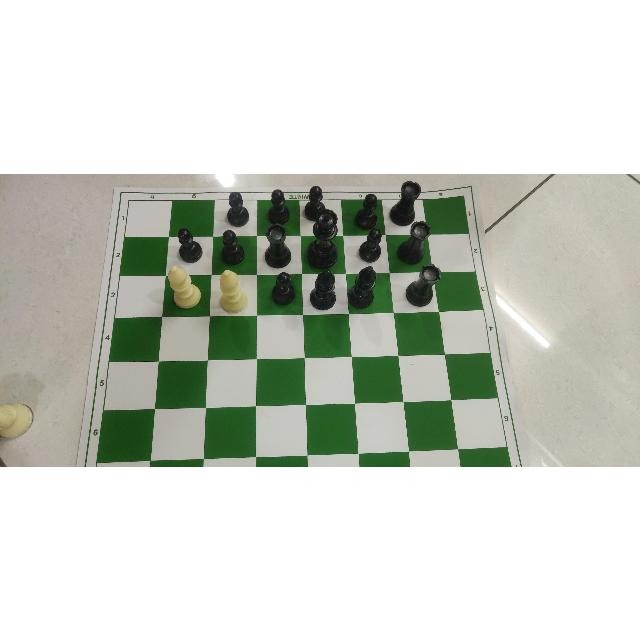black-bishop: (347, 260, 380, 309), (307, 264, 339, 314)
black-pawn: (169, 222, 211, 260), (220, 187, 257, 225), (219, 224, 255, 263), (263, 185, 297, 225), (354, 187, 386, 227), (269, 272, 301, 310), (358, 227, 388, 262), (303, 181, 340, 208)
black-queen: (306, 211, 342, 267)
black-rook: (406, 262, 442, 307), (392, 178, 429, 221), (261, 226, 295, 268), (399, 222, 434, 261)
white-bishop: (161, 263, 205, 311), (213, 265, 254, 316)
